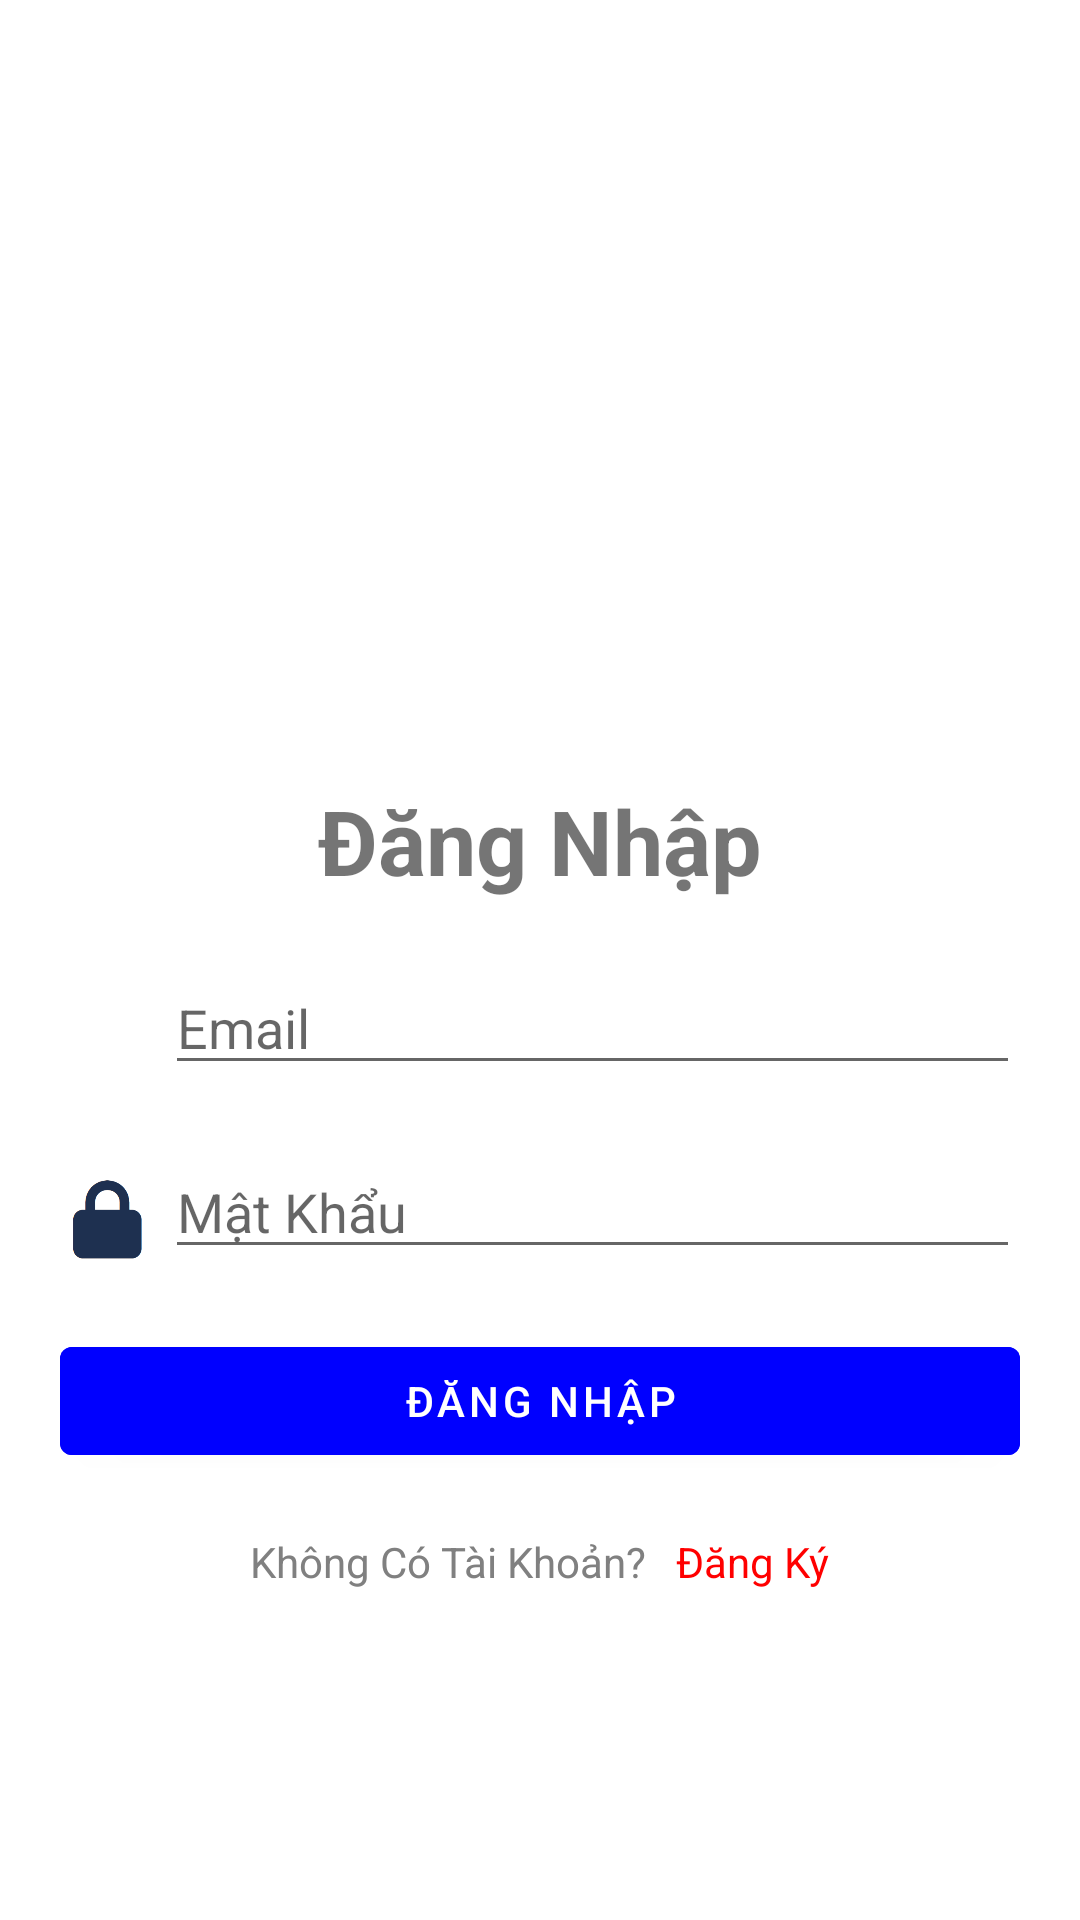

Named icons in this screenshot (1080*1920) and their bounding boxes, (x1, y1, x2, y2):
pass: (73, 1180, 142, 1259)
